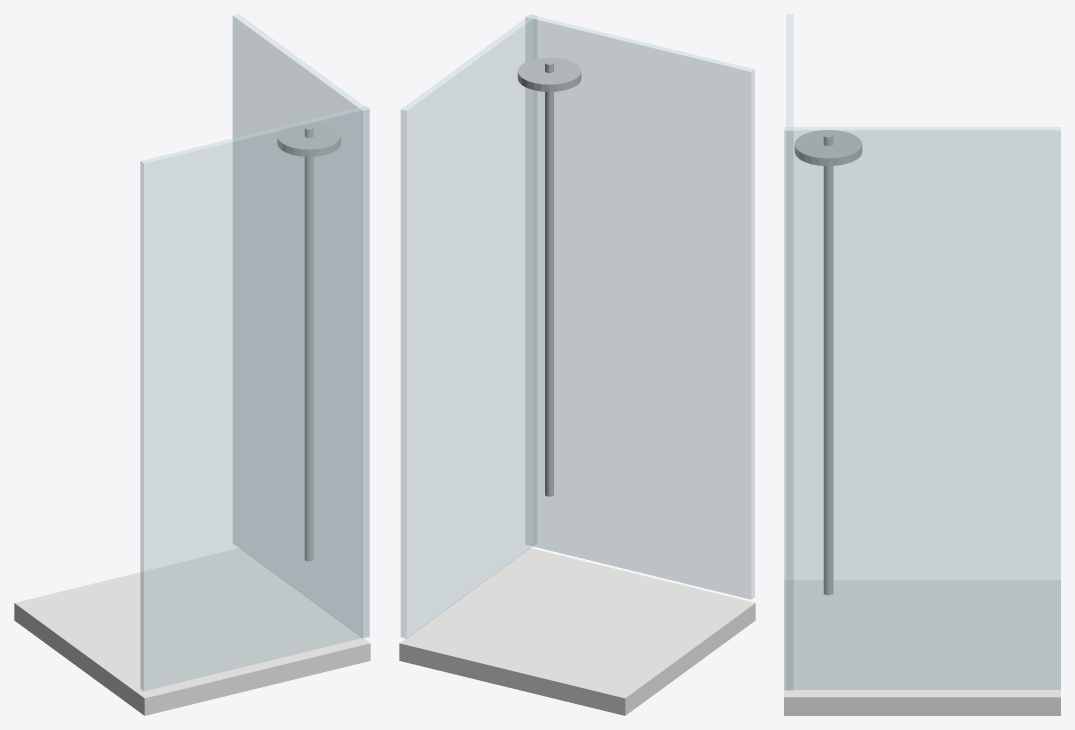
The model's file is shower.glb.
The picture shows the model from 3 angles, left to right: view 1: azimuth 30°, elevation 25°; view 2: azimuth 150°, elevation 25°; view 3: azimuth 270°, elevation 25°; orthographic projection. The views are drawn at different scales.
Parts seen in each view (by area): view 1: glass_2, glass_1, tray_0, pipe_3, head_4; view 2: glass_2, glass_1, tray_0, pipe_3, head_4; view 3: glass_1, tray_0, glass_2, pipe_3, head_4.
Part boxes in pixels (left/top/right/bottom): glass_2: left=140, top=106, right=369, bottom=690; glass_1: left=233, top=14, right=368, bottom=638; tray_0: left=14, top=548, right=370, bottom=715; pipe_3: left=304, top=126, right=313, bottom=561; head_4: left=277, top=122, right=340, bottom=156; glass_2: left=525, top=14, right=754, bottom=599; glass_1: left=401, top=14, right=536, bottom=638; tray_0: left=399, top=548, right=755, bottom=715; pipe_3: left=545, top=61, right=553, bottom=496; head_4: left=517, top=57, right=581, bottom=91; glass_1: left=784, top=127, right=1060, bottom=689; tray_0: left=784, top=580, right=1060, bottom=715; glass_2: left=786, top=14, right=793, bottom=690; pipe_3: left=823, top=133, right=833, bottom=595; head_4: left=794, top=130, right=862, bottom=166.
Bounding box in the file's own units: 0.9 × 2.1 × 0.9.
